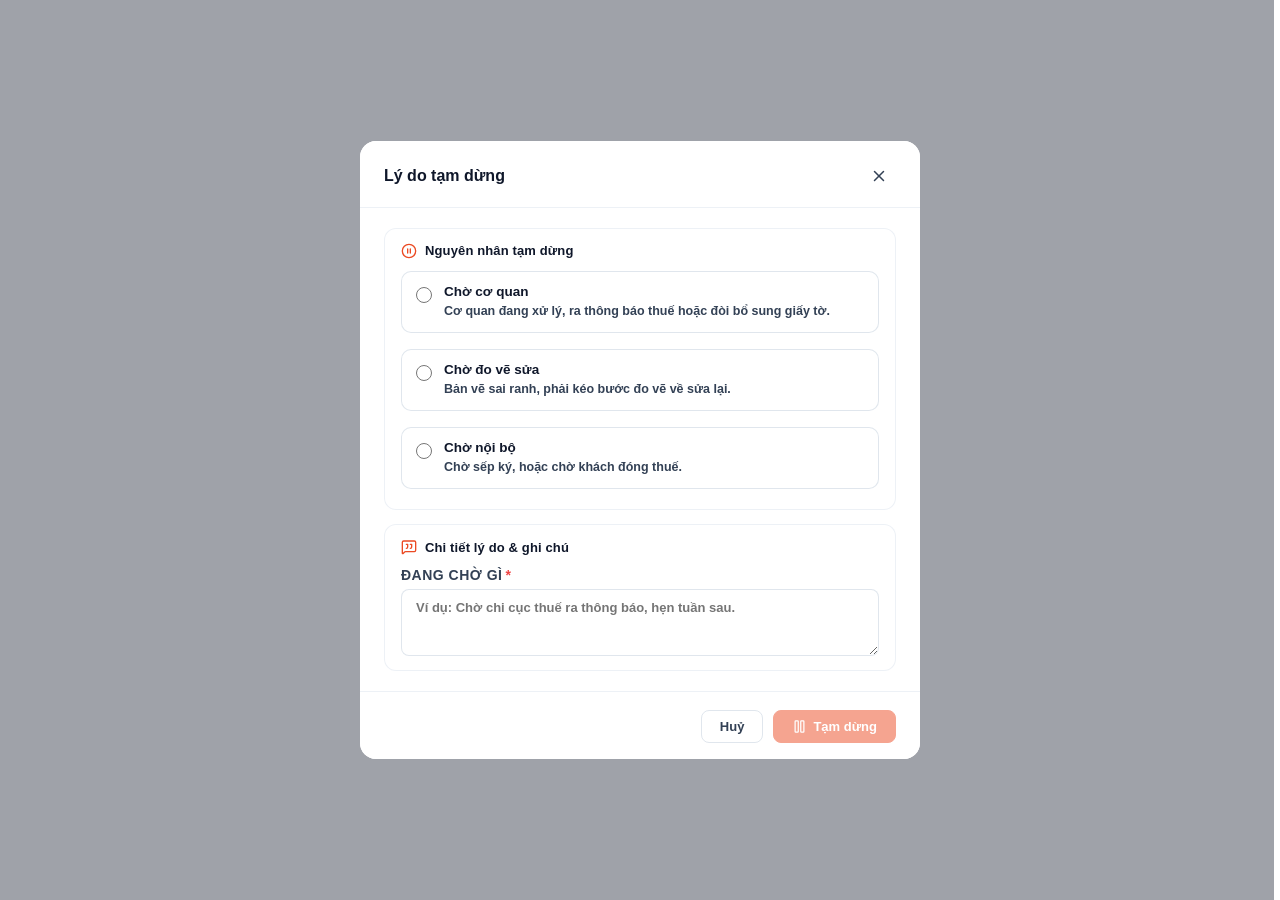
Chọn lý do tạm dừng › chọn lý do rồi mà ghi chú quá ngắn thì vẫn chưa gửi được
Click the radio button labelled "Chờ cơ quan".
click(424, 295)  # box [416, 287, 432, 303]
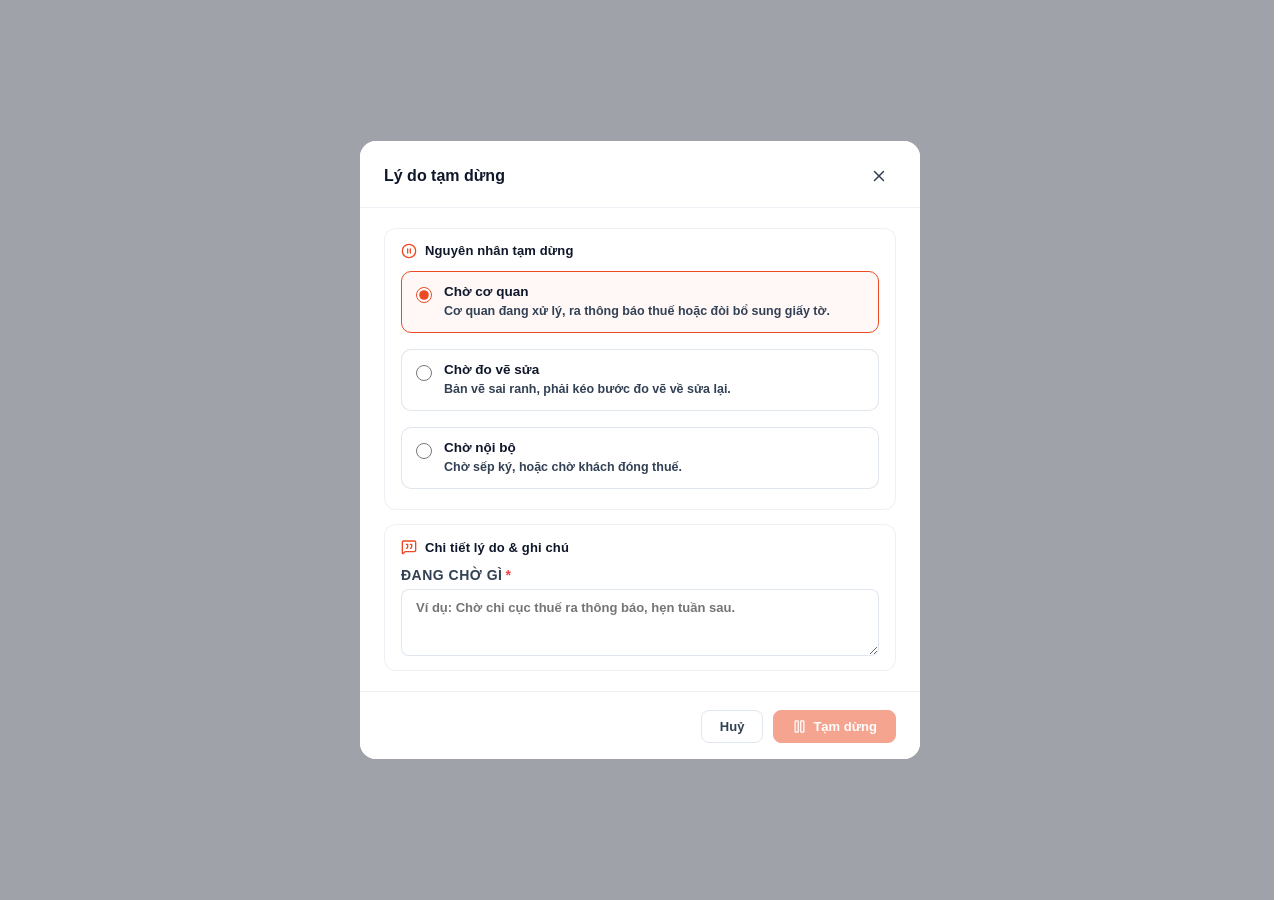
Type "ok" into the text box.
click(640, 623); type("ok")  # box [401, 589, 879, 656]
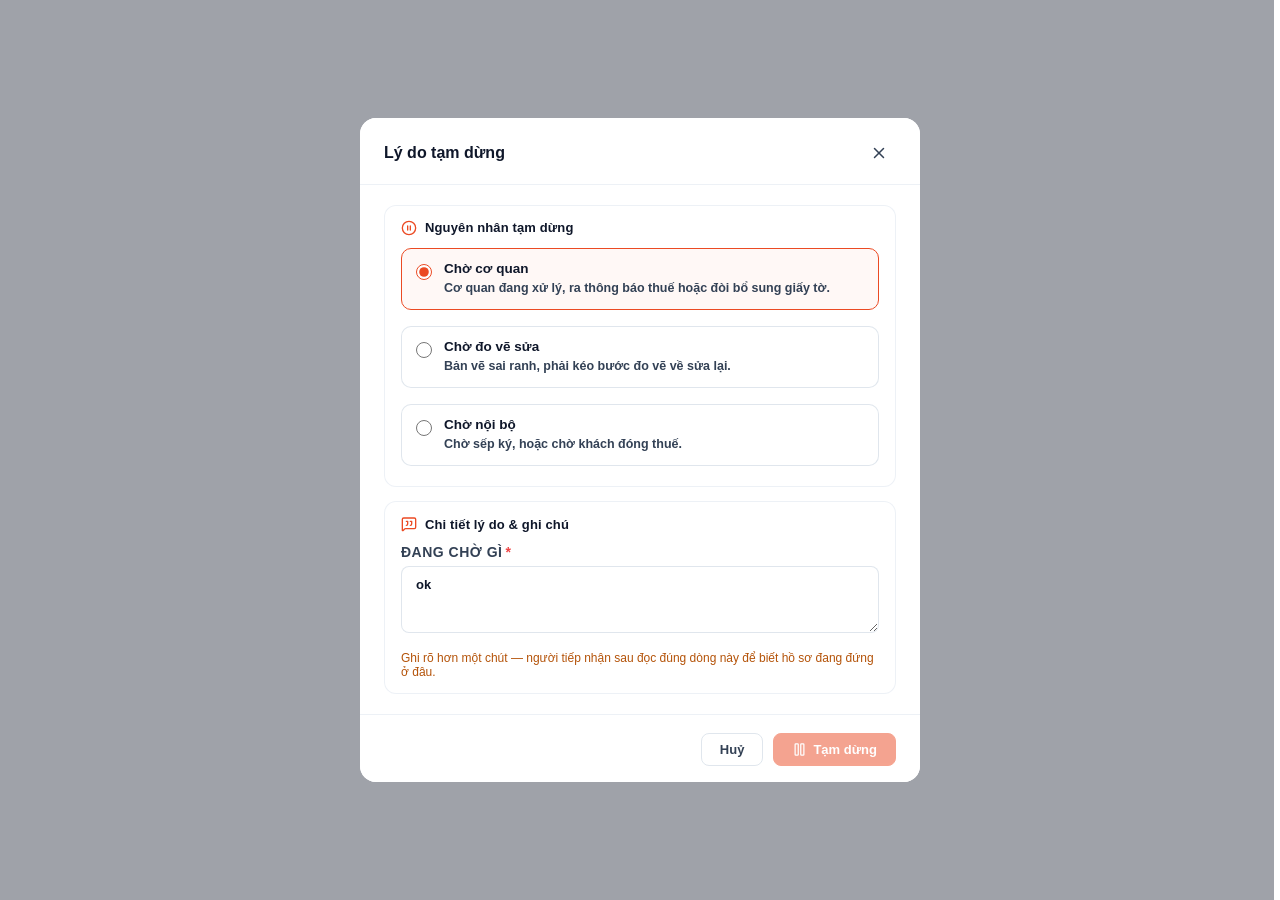
expect the button "Tạm dừng" is disabled: met, box [773, 733, 896, 766]
expect the text "người tiếp nhận sau đọc đúng dòng này" is shown: met, box [401, 651, 874, 679]
